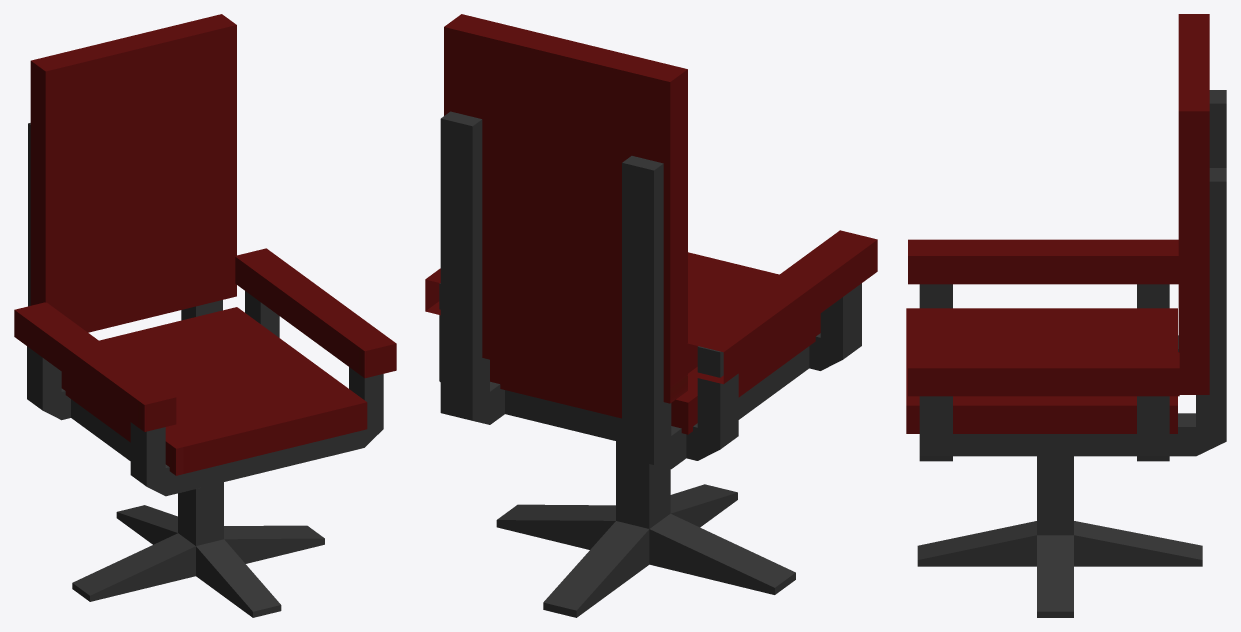
Rendered from AdvancedChairMaroon.fbx.
3 views of the same model, side by side, from view 1: azimuth 30°, elevation 25°; view 2: azimuth 150°, elevation 25°; view 3: azimuth 270°, elevation 25° (orthographic). The views are drawn at different scales.
Parts seen in each view (by area): view 1: Cube.002, Cube.001; view 2: Cube.002, Cube.001; view 3: Cube.002, Cube.001.
Boxes of the visible parts, x1,y1,x2,y2 form: Cube.002: (14, 14, 396, 475); Cube.001: (27, 123, 383, 617); Cube.002: (425, 14, 877, 434); Cube.001: (439, 111, 861, 617); Cube.002: (906, 14, 1209, 433); Cube.001: (917, 90, 1226, 617).
Bounding box in the file's own units: 374 × 674 × 395.
